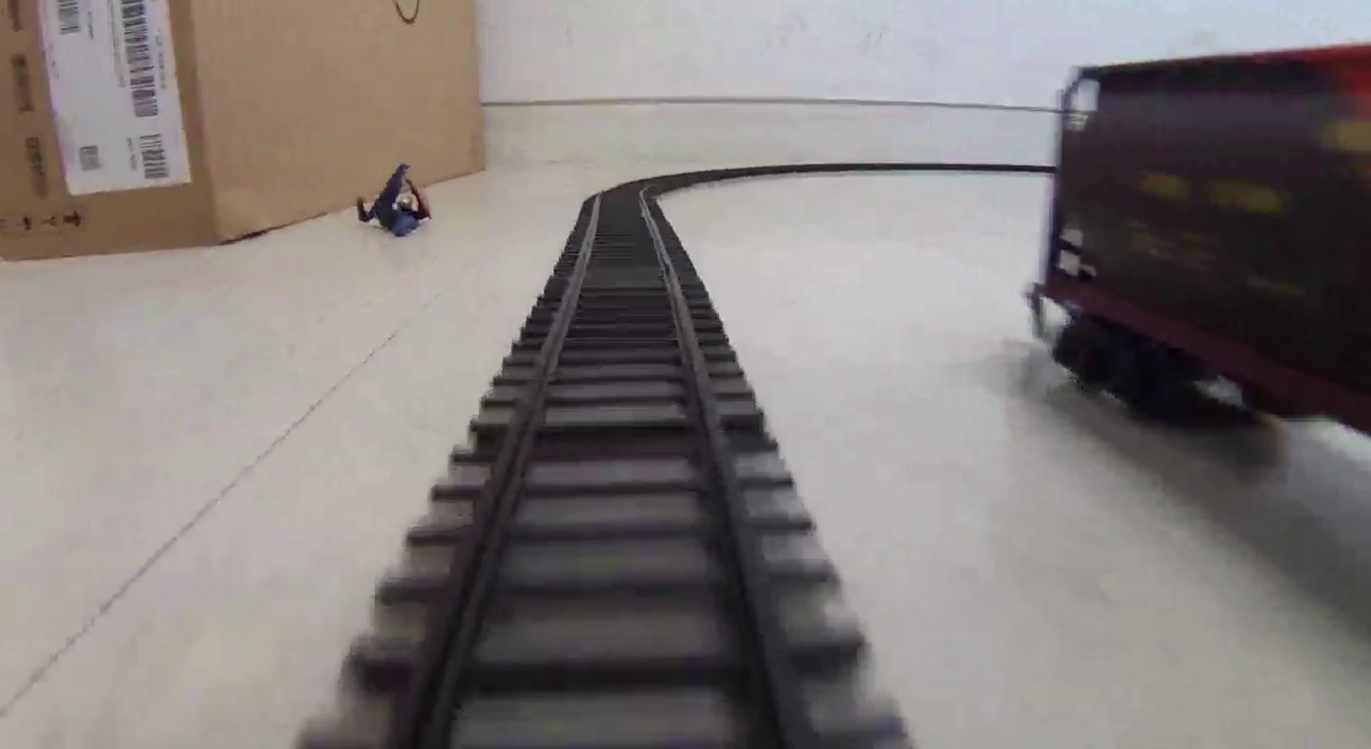people: (358, 165, 435, 239)
